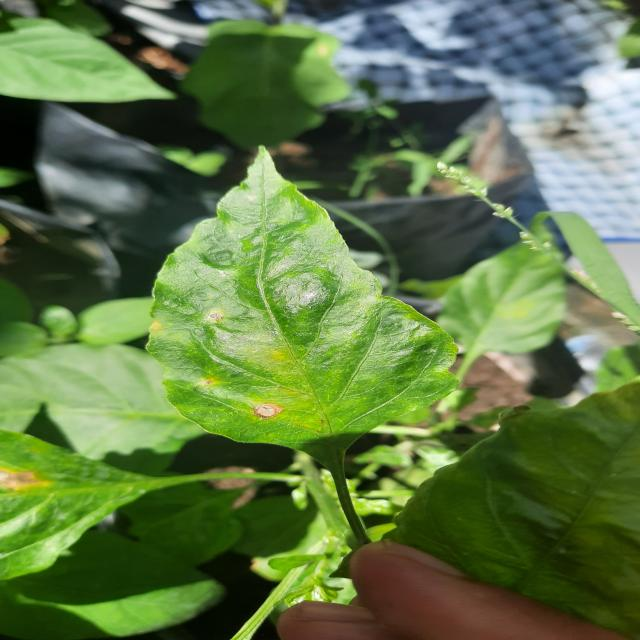bercak_daun: (148, 259, 373, 443)
